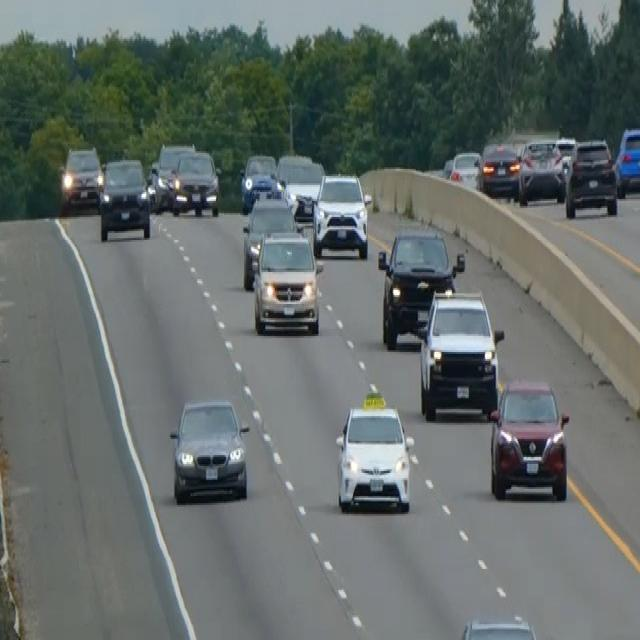car: (377, 226, 465, 348), (333, 388, 415, 516), (488, 375, 570, 501), (168, 395, 250, 503), (241, 192, 297, 288), (312, 170, 371, 258), (563, 137, 618, 219), (98, 155, 151, 240), (170, 147, 220, 217), (517, 135, 565, 205), (148, 140, 195, 210), (60, 144, 102, 208), (276, 153, 324, 208), (475, 141, 520, 199), (239, 151, 278, 210), (459, 614, 537, 638), (615, 124, 639, 196), (292, 192, 317, 252), (276, 151, 312, 187), (448, 150, 481, 188), (553, 135, 577, 187)
jeep: (417, 286, 504, 422)
minivan: (251, 229, 323, 336)
